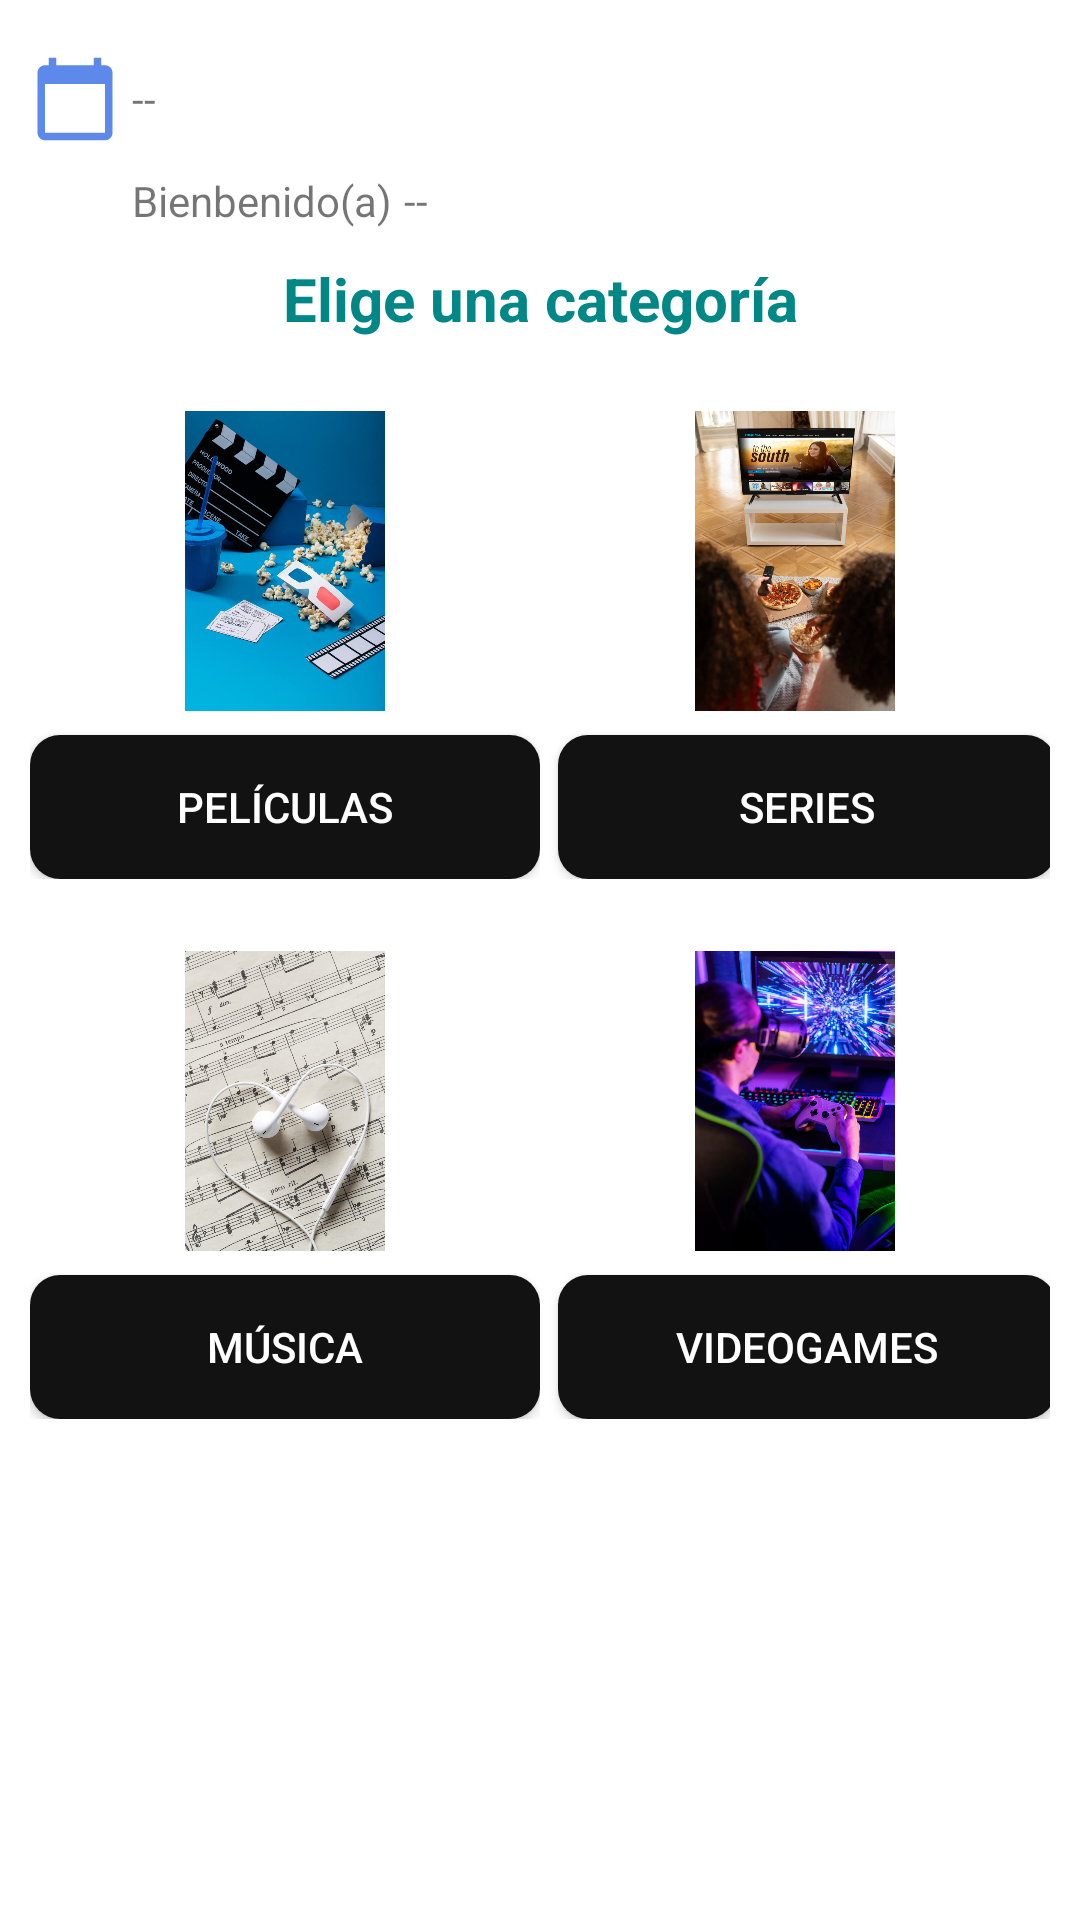

Where icons sit on this 1080px×1920px app screen, as [left=x1, top=y1, right=x2, bottom=y2]:
calendario: [left=37, top=57, right=113, bottom=141]
